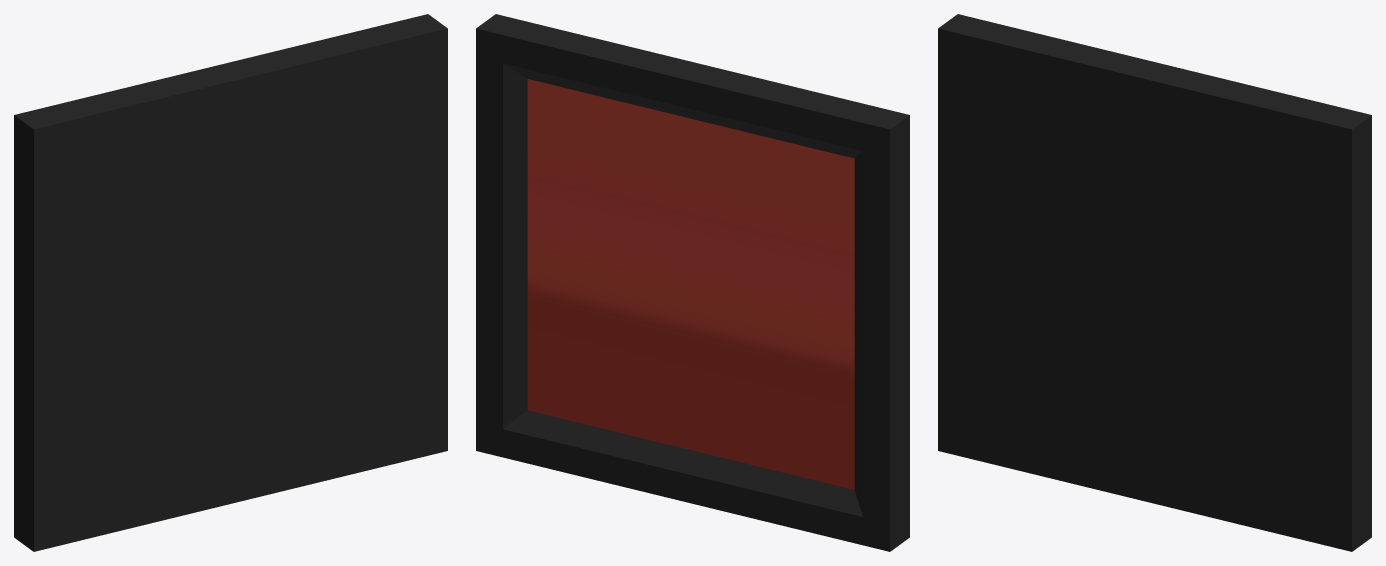
File: tranh4.fbx
3 views of the same model, side by side, from view 1: azimuth 30°, elevation 25°; view 2: azimuth 150°, elevation 25°; view 3: azimuth 330°, elevation 25° (orthographic).
Parts seen in each view (by area): view 1: tranh4; view 2: tranh4; view 3: tranh4.
Boxes of the visible parts, x1,y1,x2,y2 form: tranh4: (14,14,447,551); tranh4: (476,14,909,551); tranh4: (938,14,1371,551).
Size of the model in its own units: 178 by 174 by 14.76.
